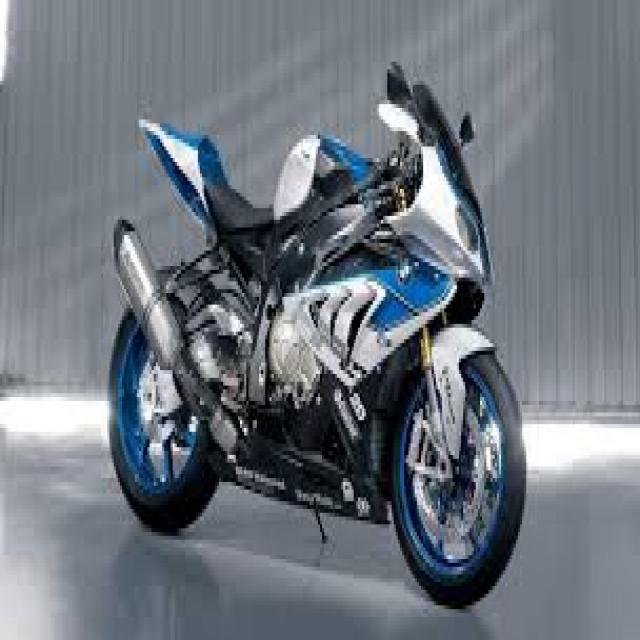Bike: (108, 60, 528, 611)
